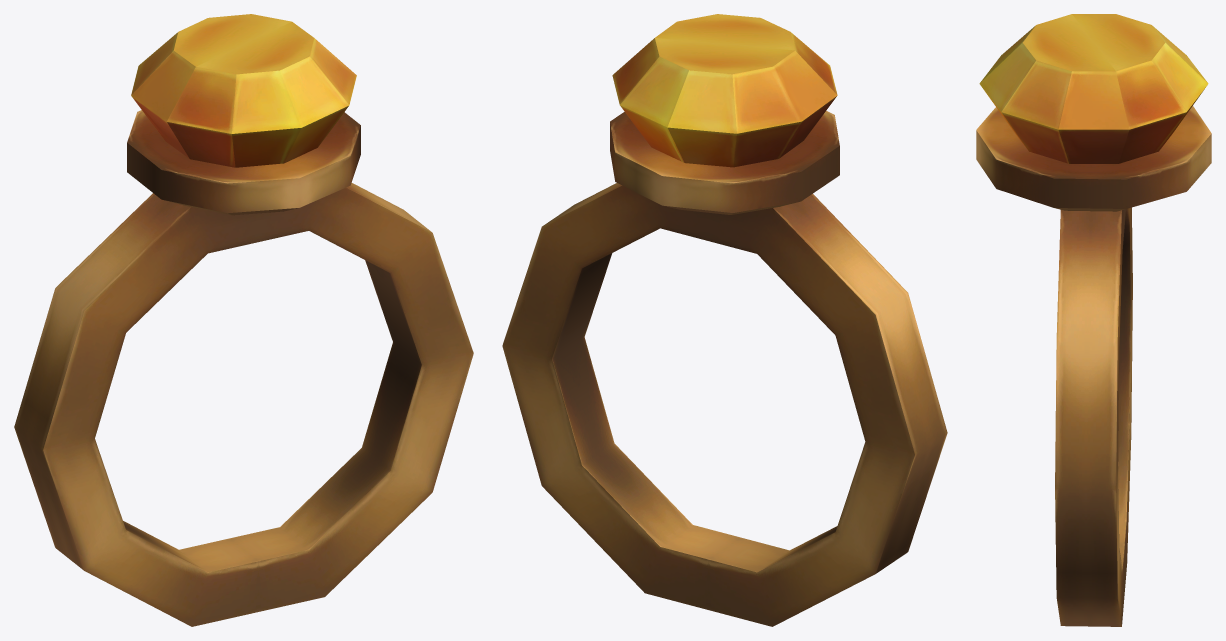
File: ring2.fbx
3 views of the same model, side by side, from view 1: azimuth 30°, elevation 25°; view 2: azimuth 150°, elevation 25°; view 3: azimuth 270°, elevation 25° (orthographic).
Parts seen in each view (by area): view 1: ring2; view 2: ring2; view 3: ring2.
Boxes of the visible parts, x1,y1,x2,y2 form: ring2: (14,14,473,626); ring2: (502,14,947,626); ring2: (976,14,1211,626).
Bounding box in the file's own units: 0.2534 × 0.3177 × 0.1228.
Materials: 1 (1 with a texture image).
